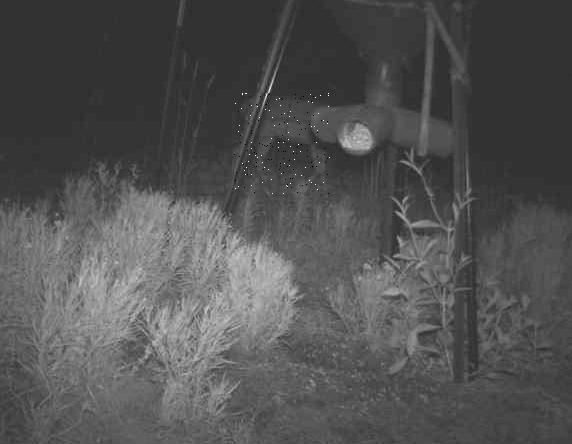Deer: (235, 94, 331, 195)
